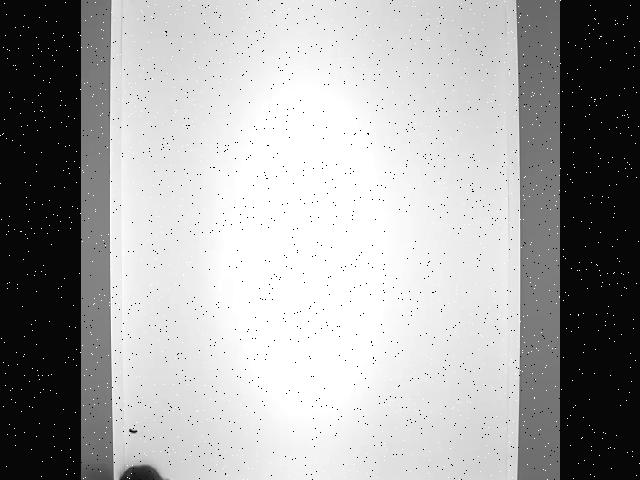Tikus: (115, 461, 180, 480)
